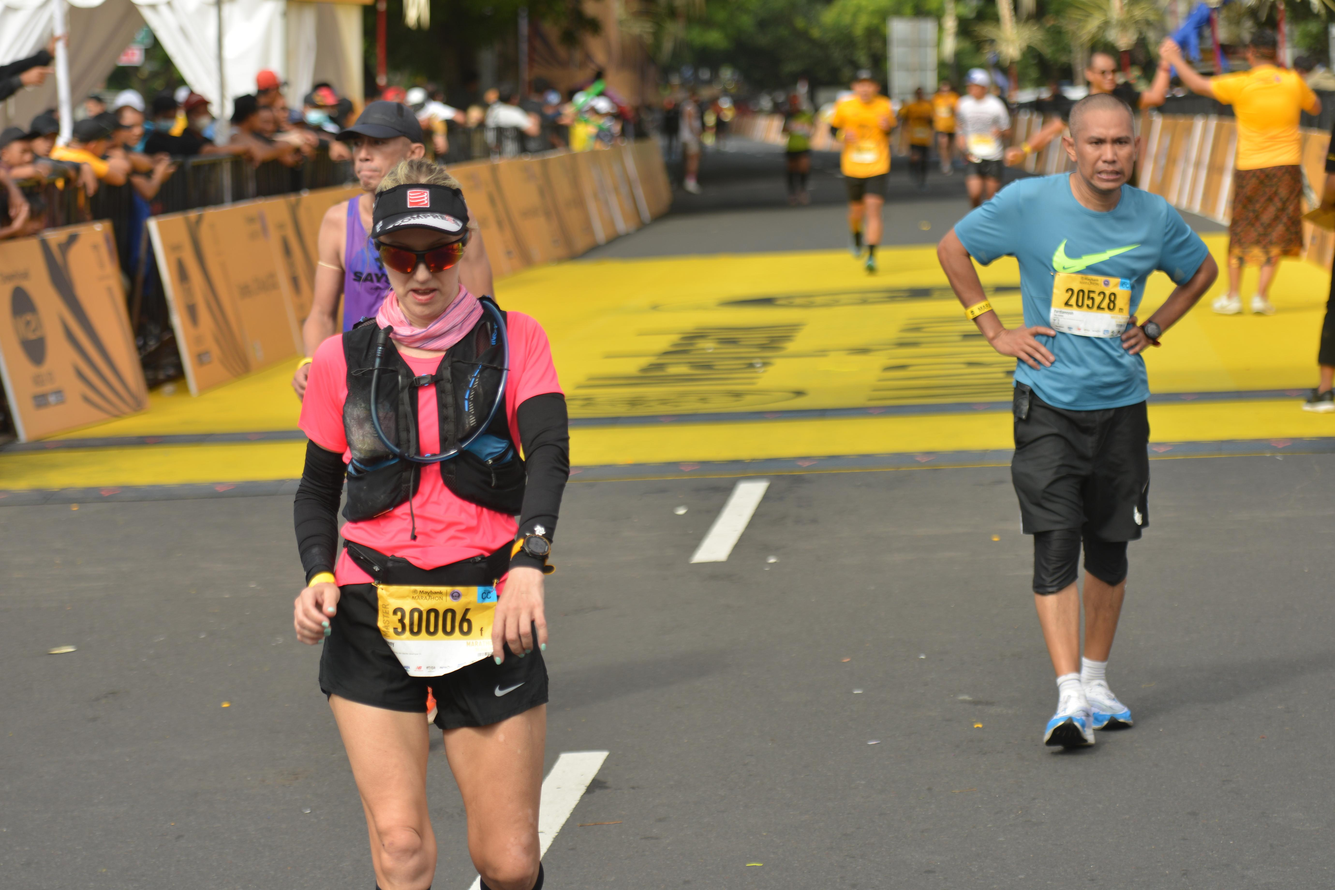bib: (375, 581, 498, 682), (1048, 272, 1130, 337), (853, 140, 879, 164), (969, 134, 995, 156)
